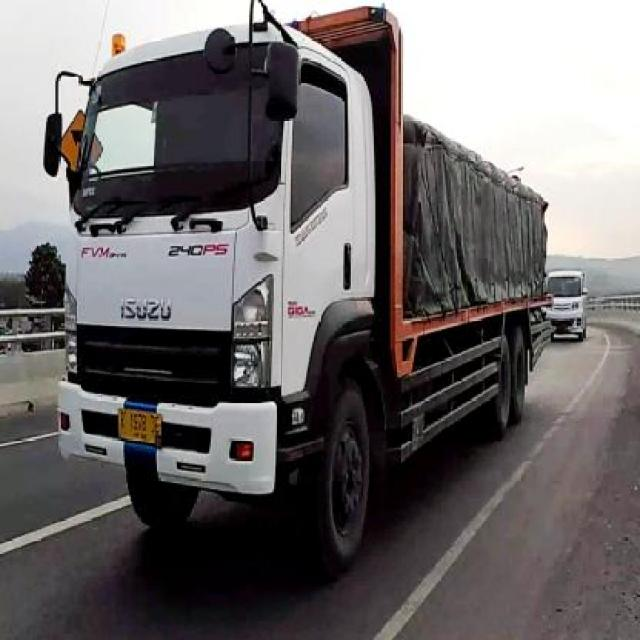truck: (44, 5, 547, 563)
